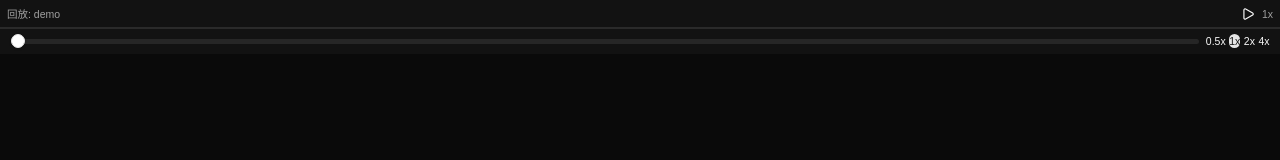
PlaybackTab terminal theme › reports playback timer failures to its tab boundary
This screenshot has width=1280, height=160.
Click the button named "开始回放" at (1248, 14), box [1241,6,1255,20]
Wait 20 ms
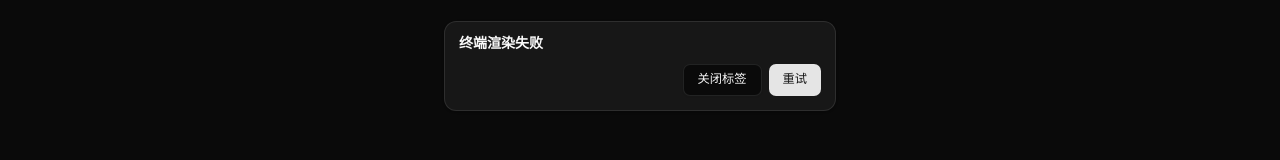
Check: the text "终端渲染失败" is shown, box [459,35,543,51]
